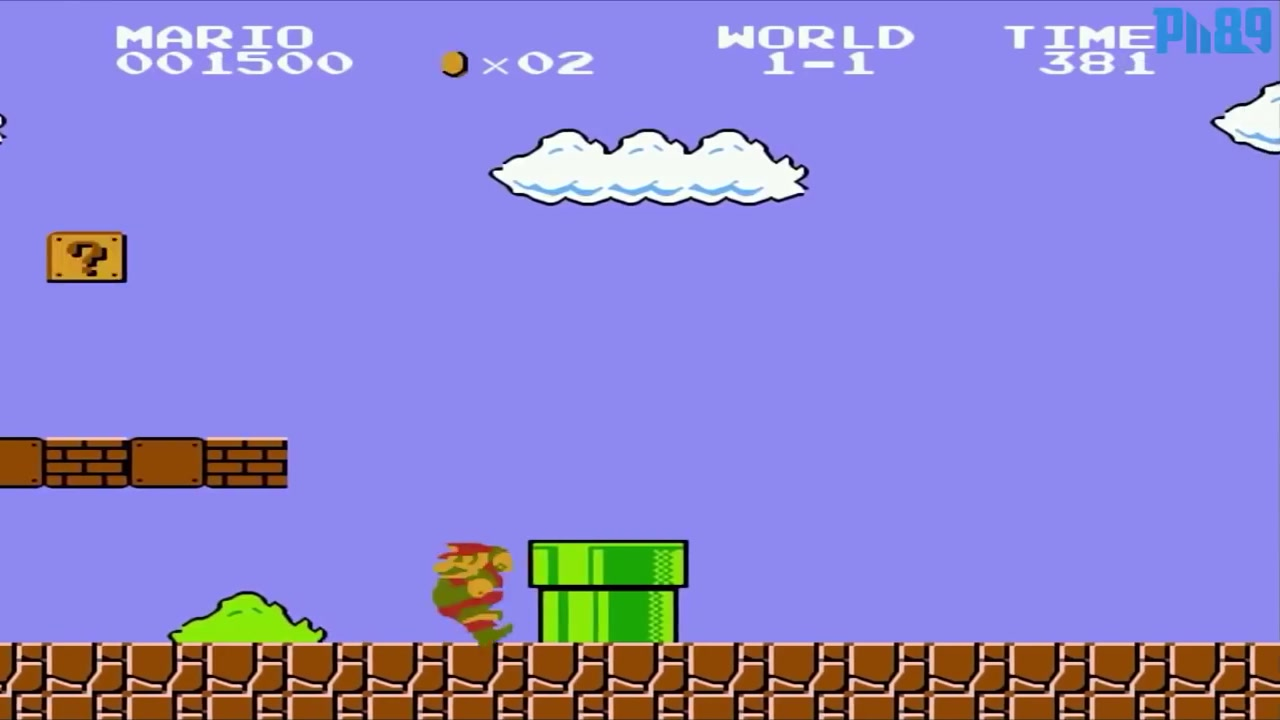mario: (417, 530, 528, 649)
